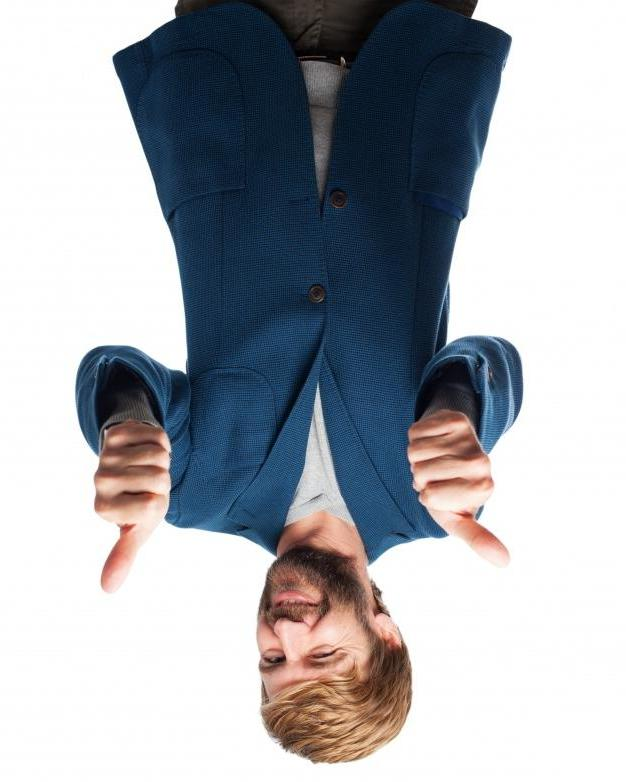thumbsdown: (406, 413, 510, 568), (94, 424, 172, 593)
